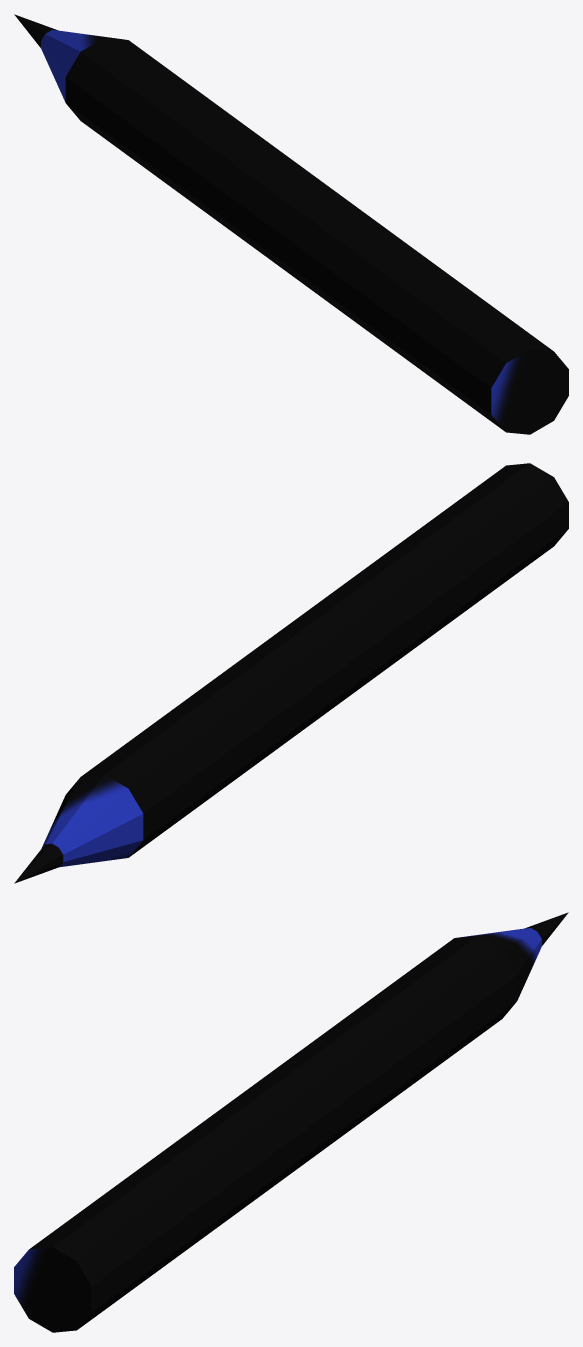
File: lapis.fbx
3 views of the same model, one above another, from view 1: azimuth 30°, elevation 25°; view 2: azimuth 150°, elevation 25°; view 3: azimuth 330°, elevation 25° (orthographic).
Parts seen in each view (by area): view 1: Lapis; view 2: Lapis; view 3: Lapis.
Boxes of the visible parts, x1,y1,x2,y2 form: Lapis: (14, 14, 568, 434); Lapis: (14, 463, 568, 883); Lapis: (14, 912, 568, 1332).
Bounding box in the file's own units: 2.43 × 2.55 × 27.9.
1 material, 1 textured.
